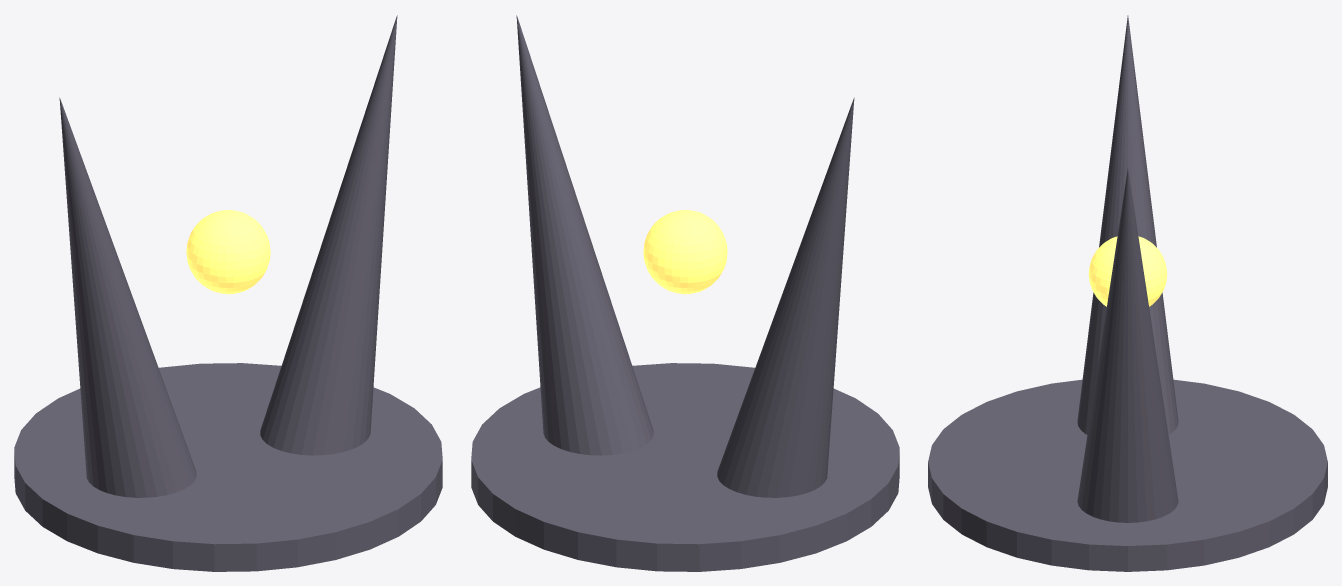
The model's file is teleporter.glb.
The picture shows the model from 3 angles, left to right: view 1: azimuth 30°, elevation 25°; view 2: azimuth 150°, elevation 25°; view 3: azimuth 270°, elevation 25°; orthographic projection. The views are drawn at different scales.
Parts seen in each view (by area): view 1: Pad, Horn_R, Horn_L, RiftCrystal; view 2: Pad, Horn_R, Horn_L, RiftCrystal; view 3: Pad, Horn_R, Horn_L, RiftCrystal.
Boxes of the visible parts, left/top/right/bottom form: Pad: left=14, top=363, right=442, bottom=571; Horn_R: left=260, top=15, right=397, bottom=455; Horn_L: left=59, top=97, right=196, bottom=497; RiftCrystal: left=186, top=210, right=270, bottom=294; Pad: left=471, top=363, right=899, bottom=571; Horn_R: left=516, top=15, right=653, bottom=455; Horn_L: left=717, top=97, right=854, bottom=497; RiftCrystal: left=643, top=210, right=727, bottom=294; Pad: left=928, top=379, right=1327, bottom=571; Horn_R: left=1077, top=169, right=1178, bottom=522; Horn_L: left=1077, top=15, right=1178, bottom=434; RiftCrystal: left=1088, top=236, right=1167, bottom=306.
Bounding box in the file's own units: 5.6 × 6.22 × 5.6.
